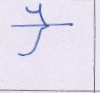ai_matra: (26, 4, 51, 24)
